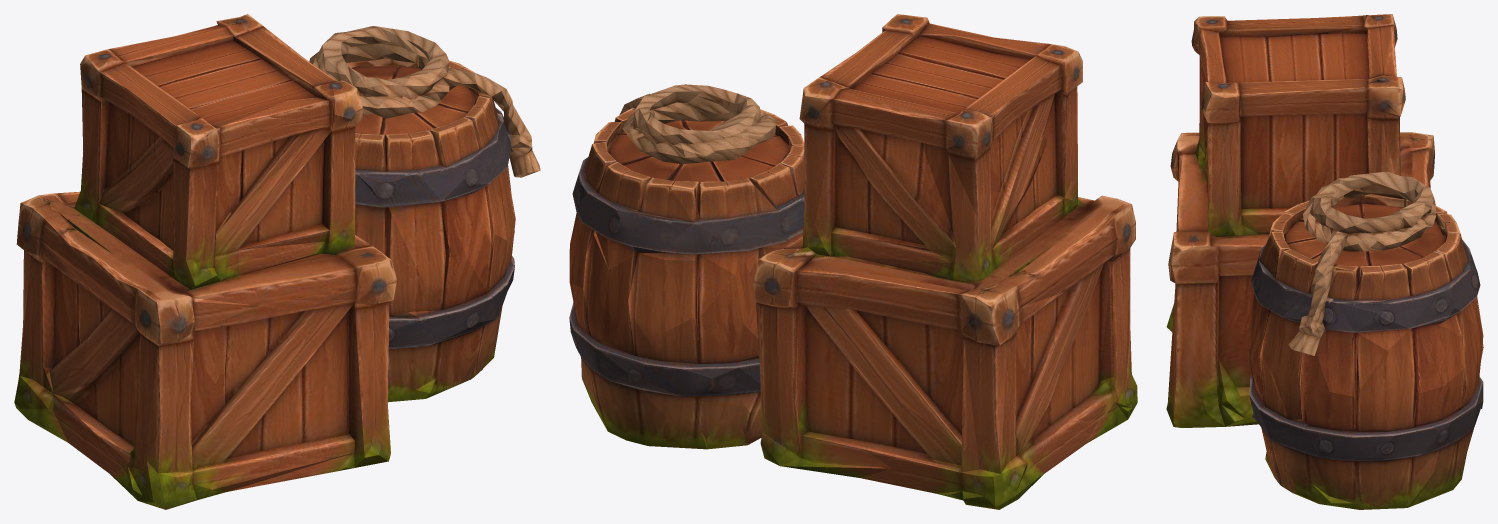
The model's file is PRP-005.glb.
3 views of the same model, side by side, from view 1: azimuth 30°, elevation 25°; view 2: azimuth 150°, elevation 25°; view 3: azimuth 270°, elevation 25° (orthographic). The views are drawn at different scales.
Visible parts, largest first — view 1: PRP-005; view 2: PRP-005; view 3: PRP-005.
Part boxes in pixels (x1=…): PRP-005: x1=14, y1=14, x2=540, y2=509; PRP-005: x1=569, y1=14, x2=1137, y2=509; PRP-005: x1=1166, y1=14, x2=1483, y2=509.
Size of the model in its own units: 1.64 by 1.25 by 1.08.
Materials: 1 (1 with a texture image).
